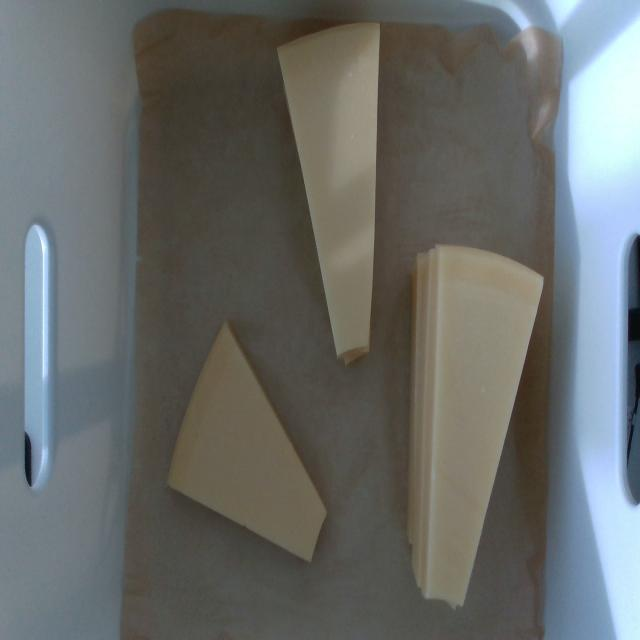cheese: (425, 245, 542, 612), (168, 325, 326, 561), (278, 24, 378, 356)
